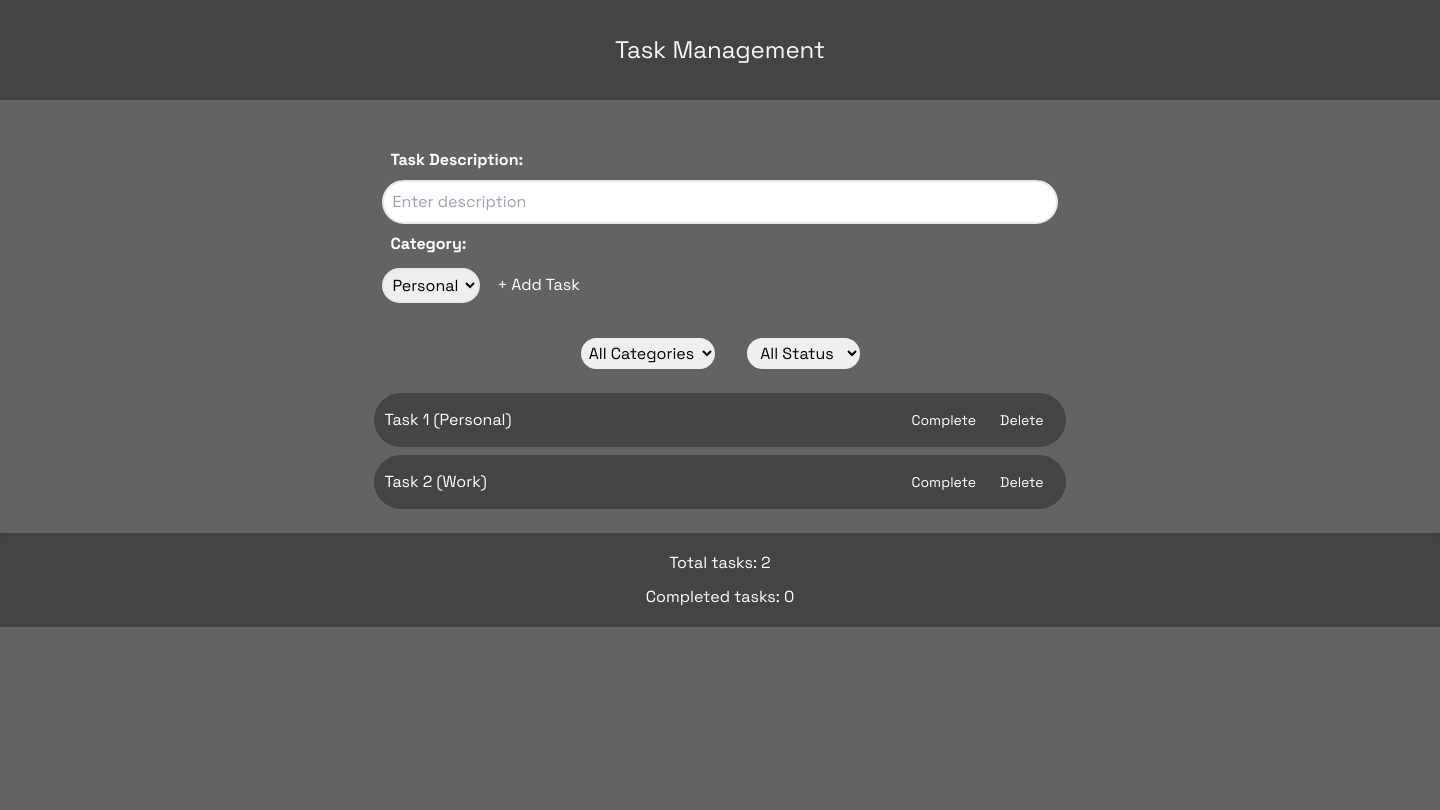
it: Marks a task as completed and updates the task list and counter
The width and height of the screenshot is (1440, 810).
Type "Task to Complete" into the field labelled "Task Description:" at [720, 202], box [382,180,1058,224]
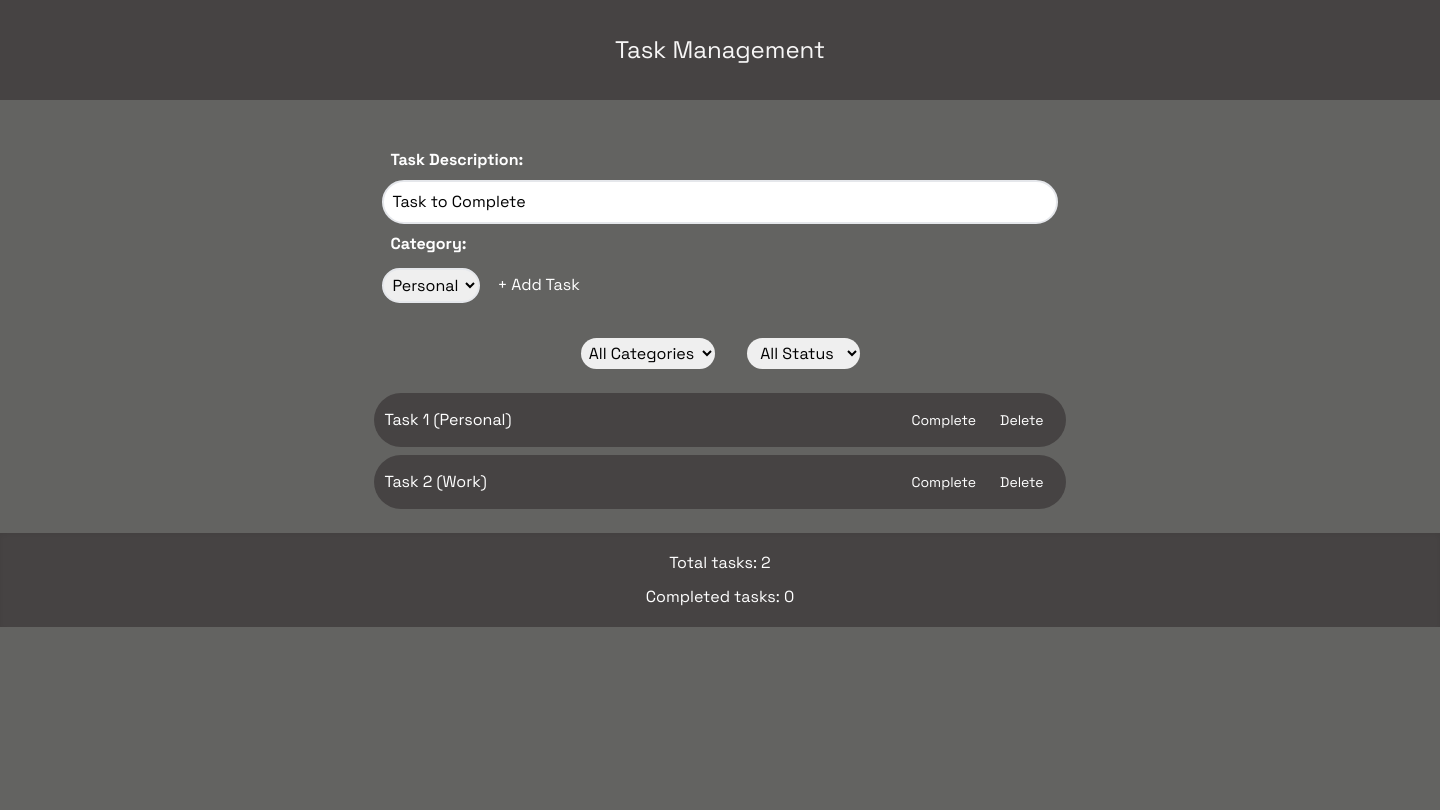
Select "Work" in the dropdown labelled "Category:" at [431, 285], box [382,268,480,302]
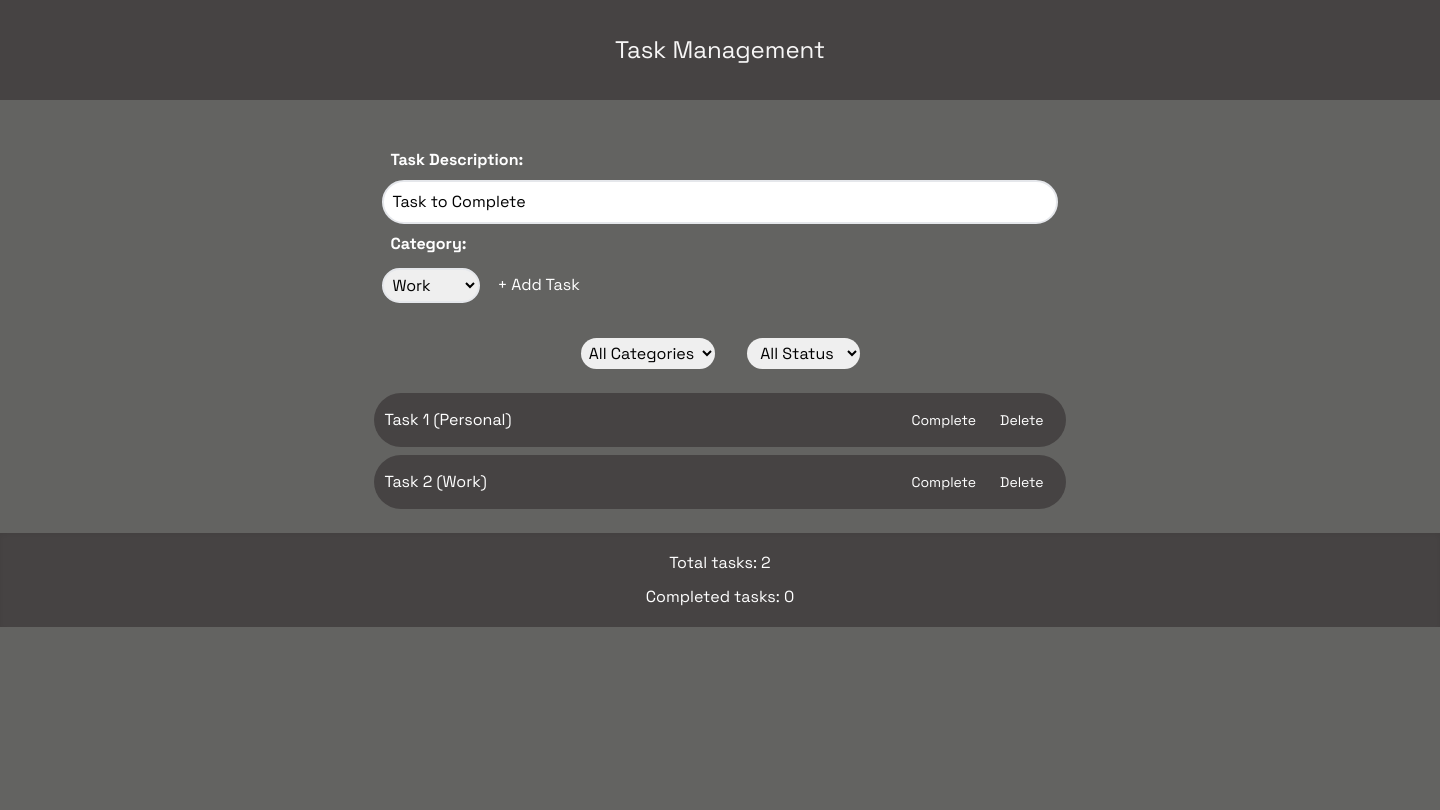
Click the button "+ Add Task" at [539, 285], box [490,266,587,304]
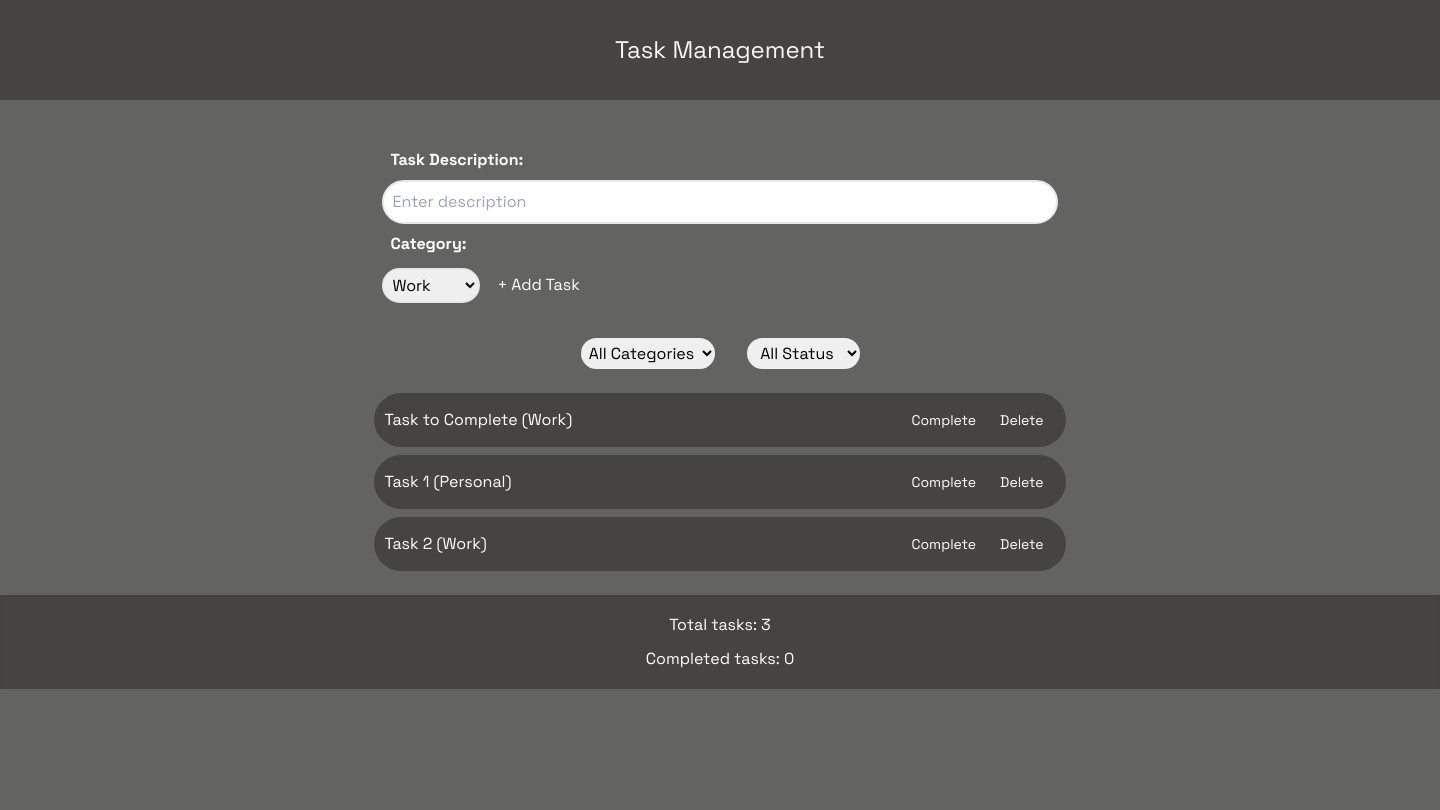
Click the button "Complete" in the row of "Task to Complete" at [944, 420], box [904,402,984,438]
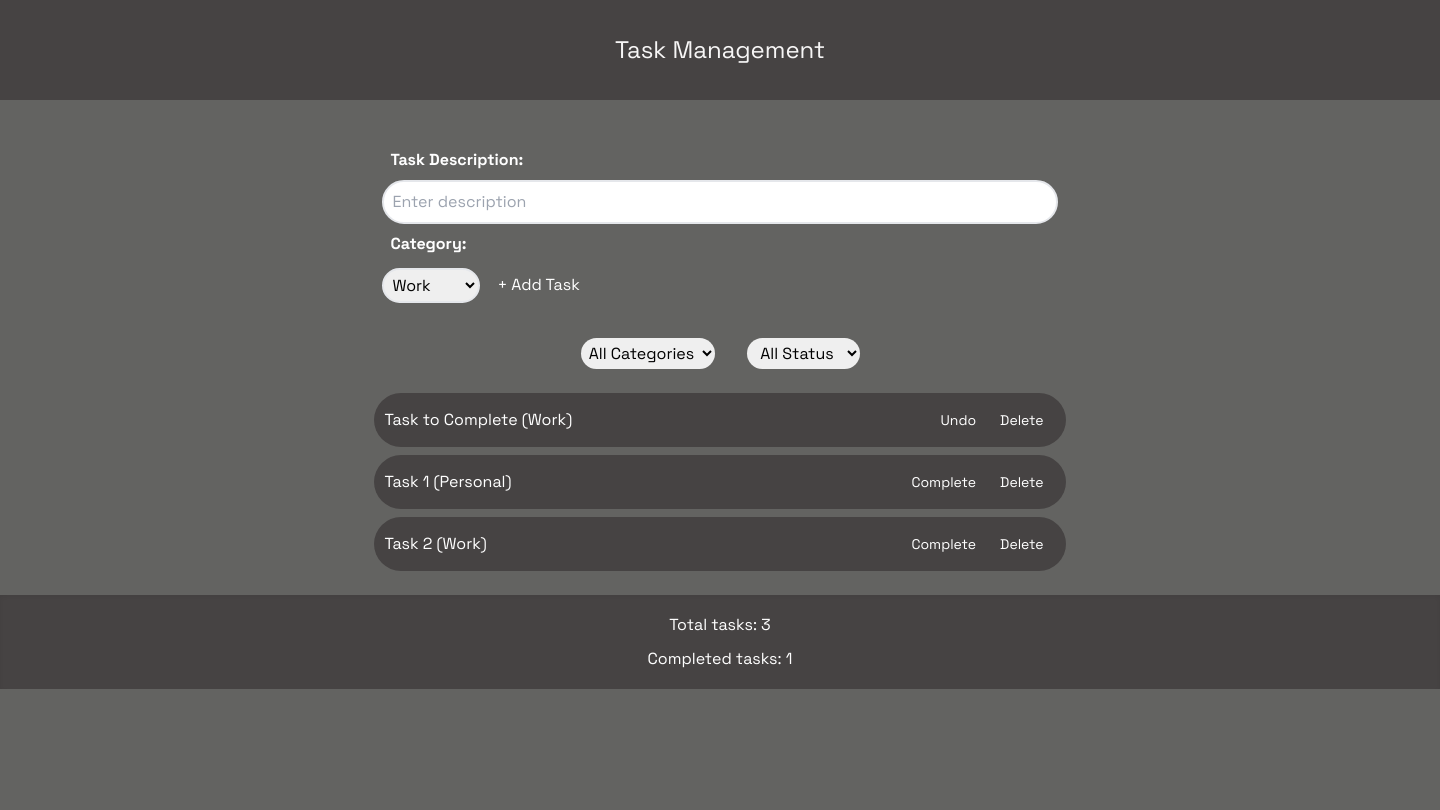
Check: the text "Task to Complete (Work)" is shown, box [384,409,572,430]
Check: the text "Total tasks: 3" is shown, box [669,614,771,635]
Check: the text "Completed tasks: 1" is shown, box [648,648,792,669]
